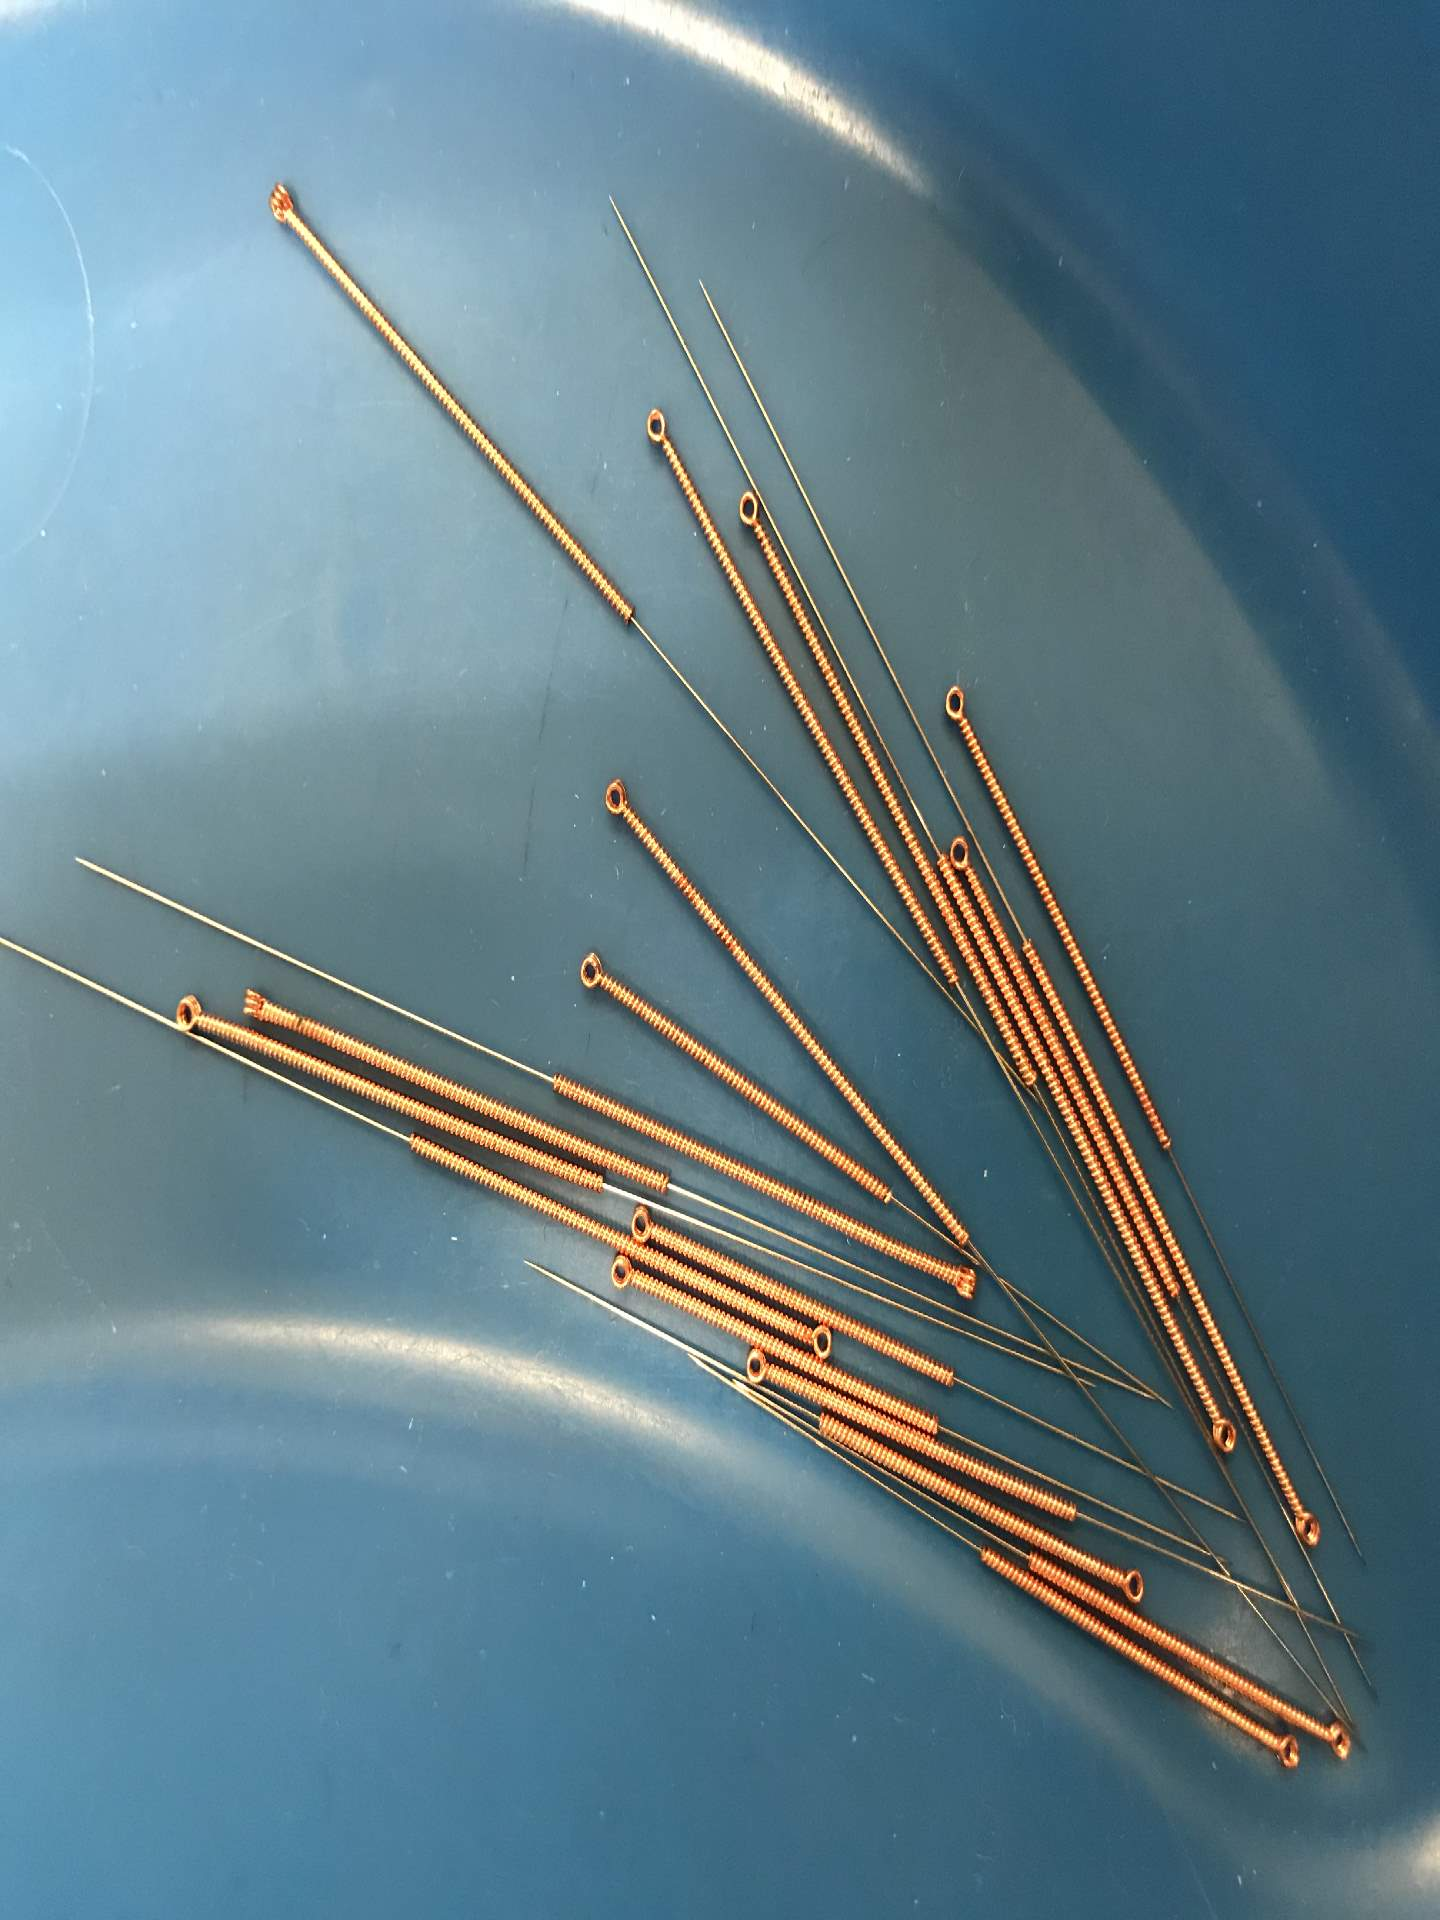needle: (162, 986, 216, 1042), (566, 945, 619, 1002), (932, 671, 976, 735), (591, 770, 638, 828), (257, 172, 304, 231), (632, 398, 675, 457), (728, 482, 768, 543), (1311, 1711, 1358, 1763), (1284, 1497, 1327, 1553), (1203, 1404, 1242, 1462), (231, 980, 274, 1027), (1110, 1559, 1150, 1609), (939, 1259, 982, 1305), (601, 1250, 641, 1296), (1266, 1730, 1304, 1776), (738, 1346, 773, 1391), (945, 827, 976, 878), (802, 1321, 839, 1362), (626, 1203, 659, 1246)
